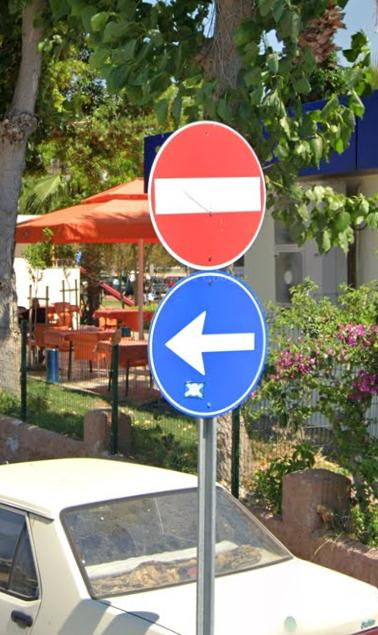turnleft: (157, 274, 262, 410)
